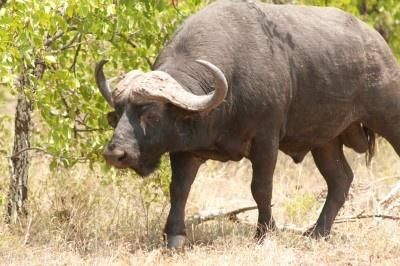buffalo: (96, 0, 399, 247)
